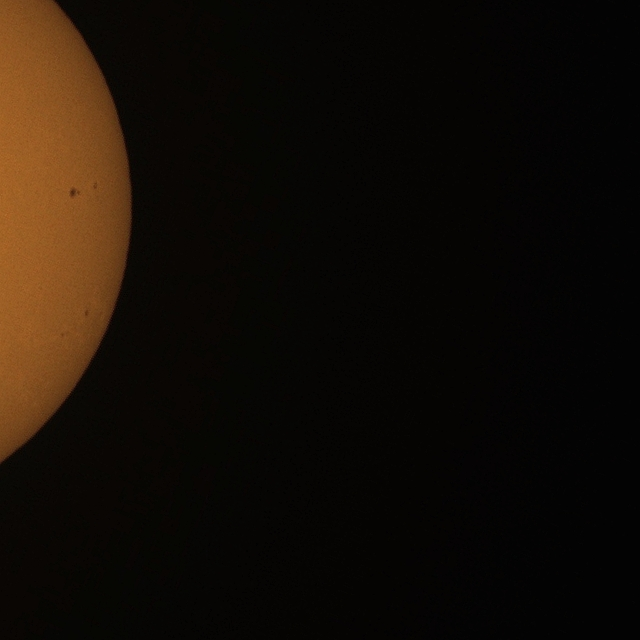sunspot: (75, 301, 100, 325), (28, 238, 48, 262), (88, 175, 107, 193), (69, 187, 81, 199), (52, 166, 62, 173)
